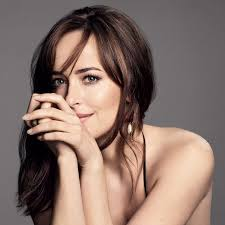white_female: (28, 24, 146, 144)
